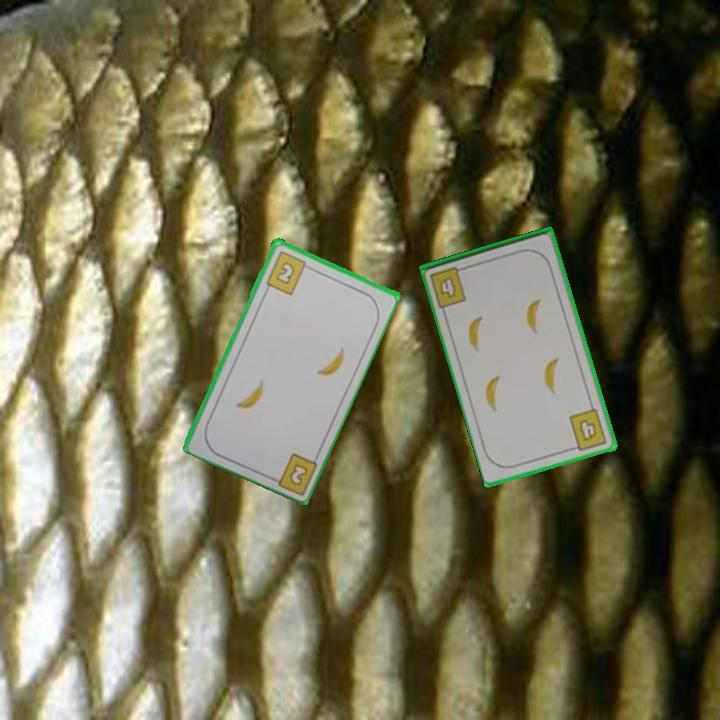2b: (262, 247, 314, 297), (266, 449, 320, 496)
4b: (566, 405, 610, 454), (426, 263, 470, 311)
